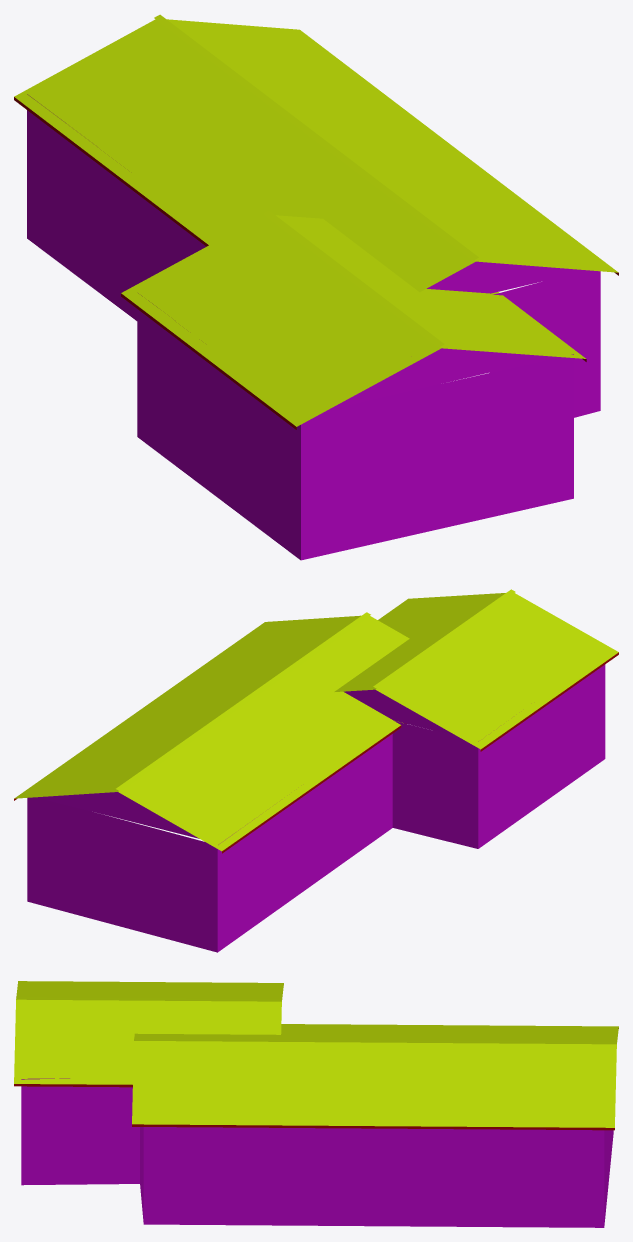
The model's file is scl_119.glb.
3 views of the same model, one above another, from view 1: azimuth 30°, elevation 25°; view 2: azimuth 150°, elevation 25°; view 3: azimuth 270°, elevation 25° (orthographic). The views are drawn at different scales.
Visible parts, largest first — view 1: scl_119; view 2: scl_119; view 3: scl_119.
Part boxes in pixels (x1,y1,x2,y2): scl_119: [14, 14, 618, 560]; scl_119: [14, 589, 618, 952]; scl_119: [14, 981, 618, 1227].
Size of the model in its own units: 15.54 by 6.87 by 27.08.
